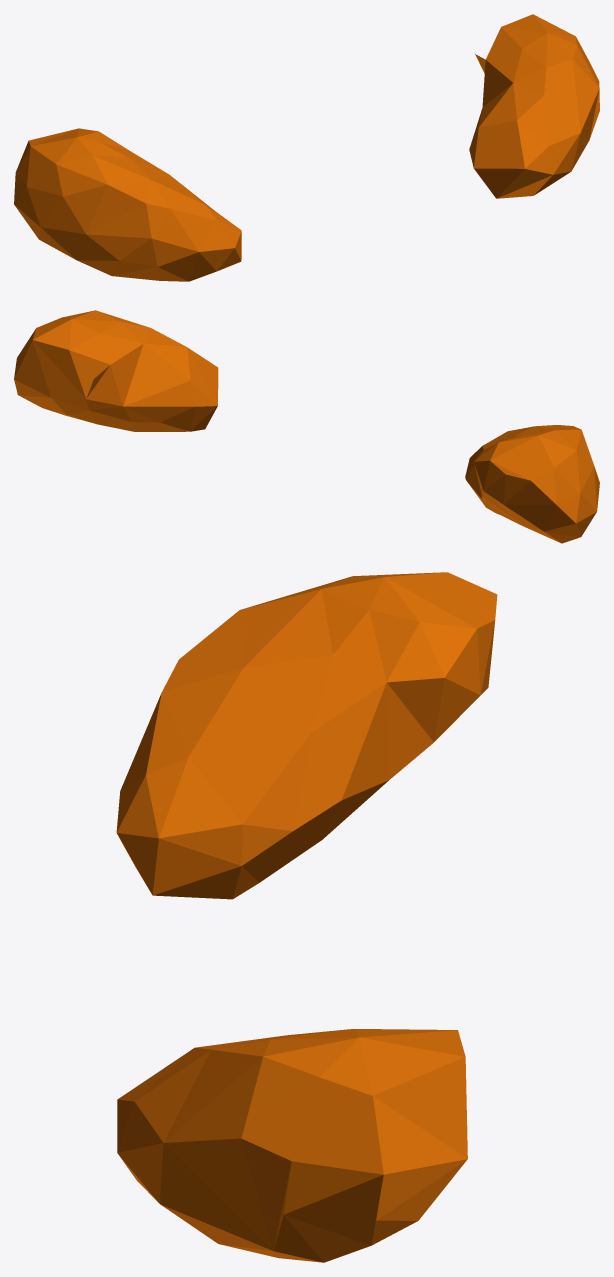
File: 212-CMnM-centromedian thalamic nucleus, medial part-('1.0000', '0.4980', '0.0000').obj
3 renders of one model, top to bottom at view 1: azimuth 30°, elevation 25°; view 2: azimuth 150°, elevation 25°; view 3: azimuth 270°, elevation 25°, orthographic. The views are drawn at different scales.
Size of the model in its own units: 62.52 by 12.77 by 18.31.
